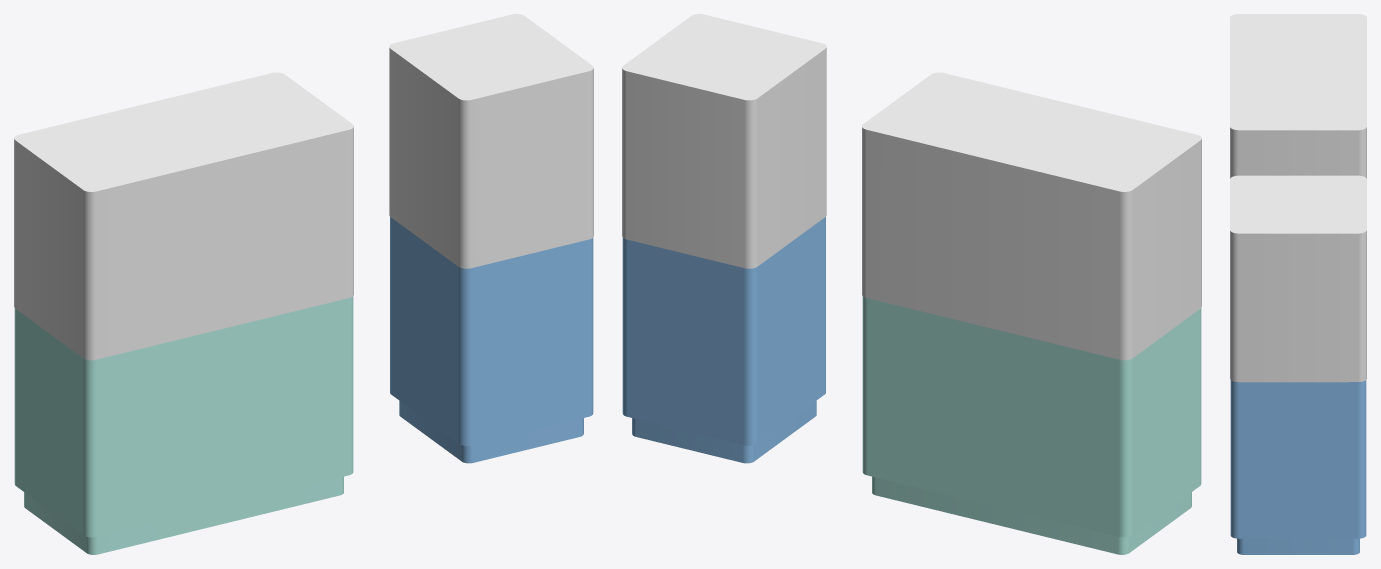
Rendered from Display cases.fbx.
The picture shows the model from 3 angles, left to right: view 1: azimuth 30°, elevation 25°; view 2: azimuth 150°, elevation 25°; view 3: azimuth 270°, elevation 25°; orthographic projection. The views are drawn at different scales.
Parts seen in each view (by area): view 1: Glass, Display, Glass_2, Display_2; view 2: Glass, Display, Glass_2, Display_2; view 3: Glass_2, Display_2, Glass.
Boxes of the visible parts, left/top/right/bottom form: Glass: left=14, top=72, right=353, bottom=360; Display: left=14, top=296, right=353, bottom=554; Glass_2: left=389, top=14, right=593, bottom=268; Display_2: left=390, top=217, right=593, bottom=463; Glass: left=862, top=72, right=1201, bottom=360; Display: left=862, top=296, right=1201, bottom=554; Glass_2: left=622, top=14, right=826, bottom=268; Display_2: left=622, top=217, right=825, bottom=463; Glass_2: left=1230, top=175, right=1366, bottom=382; Display_2: left=1230, top=380, right=1366, bottom=554; Glass: left=1230, top=14, right=1366, bottom=178.
Size of the model in its own units: 249 by 171 by 65.48.
